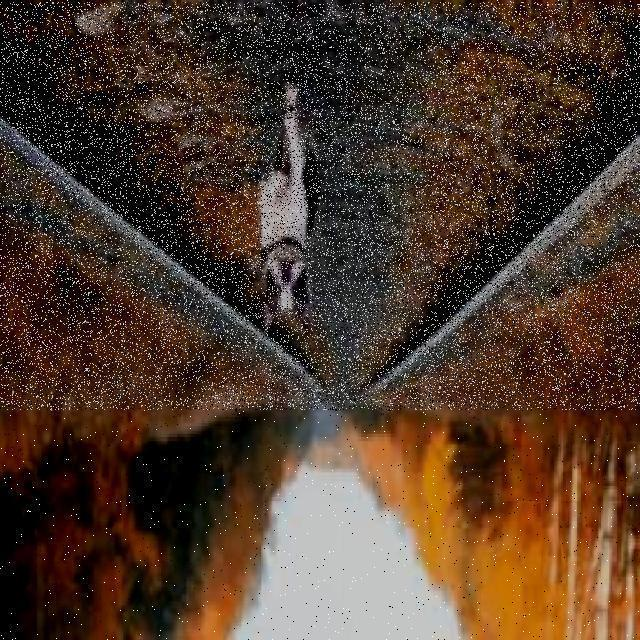rail: (1, 1, 640, 412)
